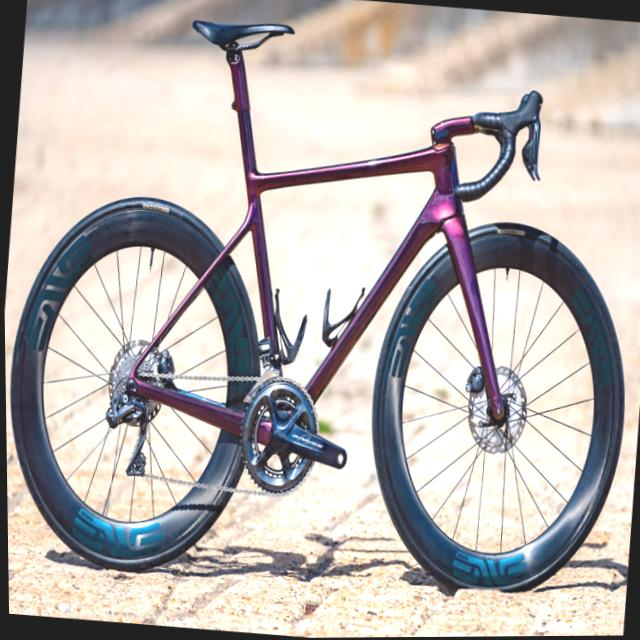road-bike: (0, 1, 640, 611)
